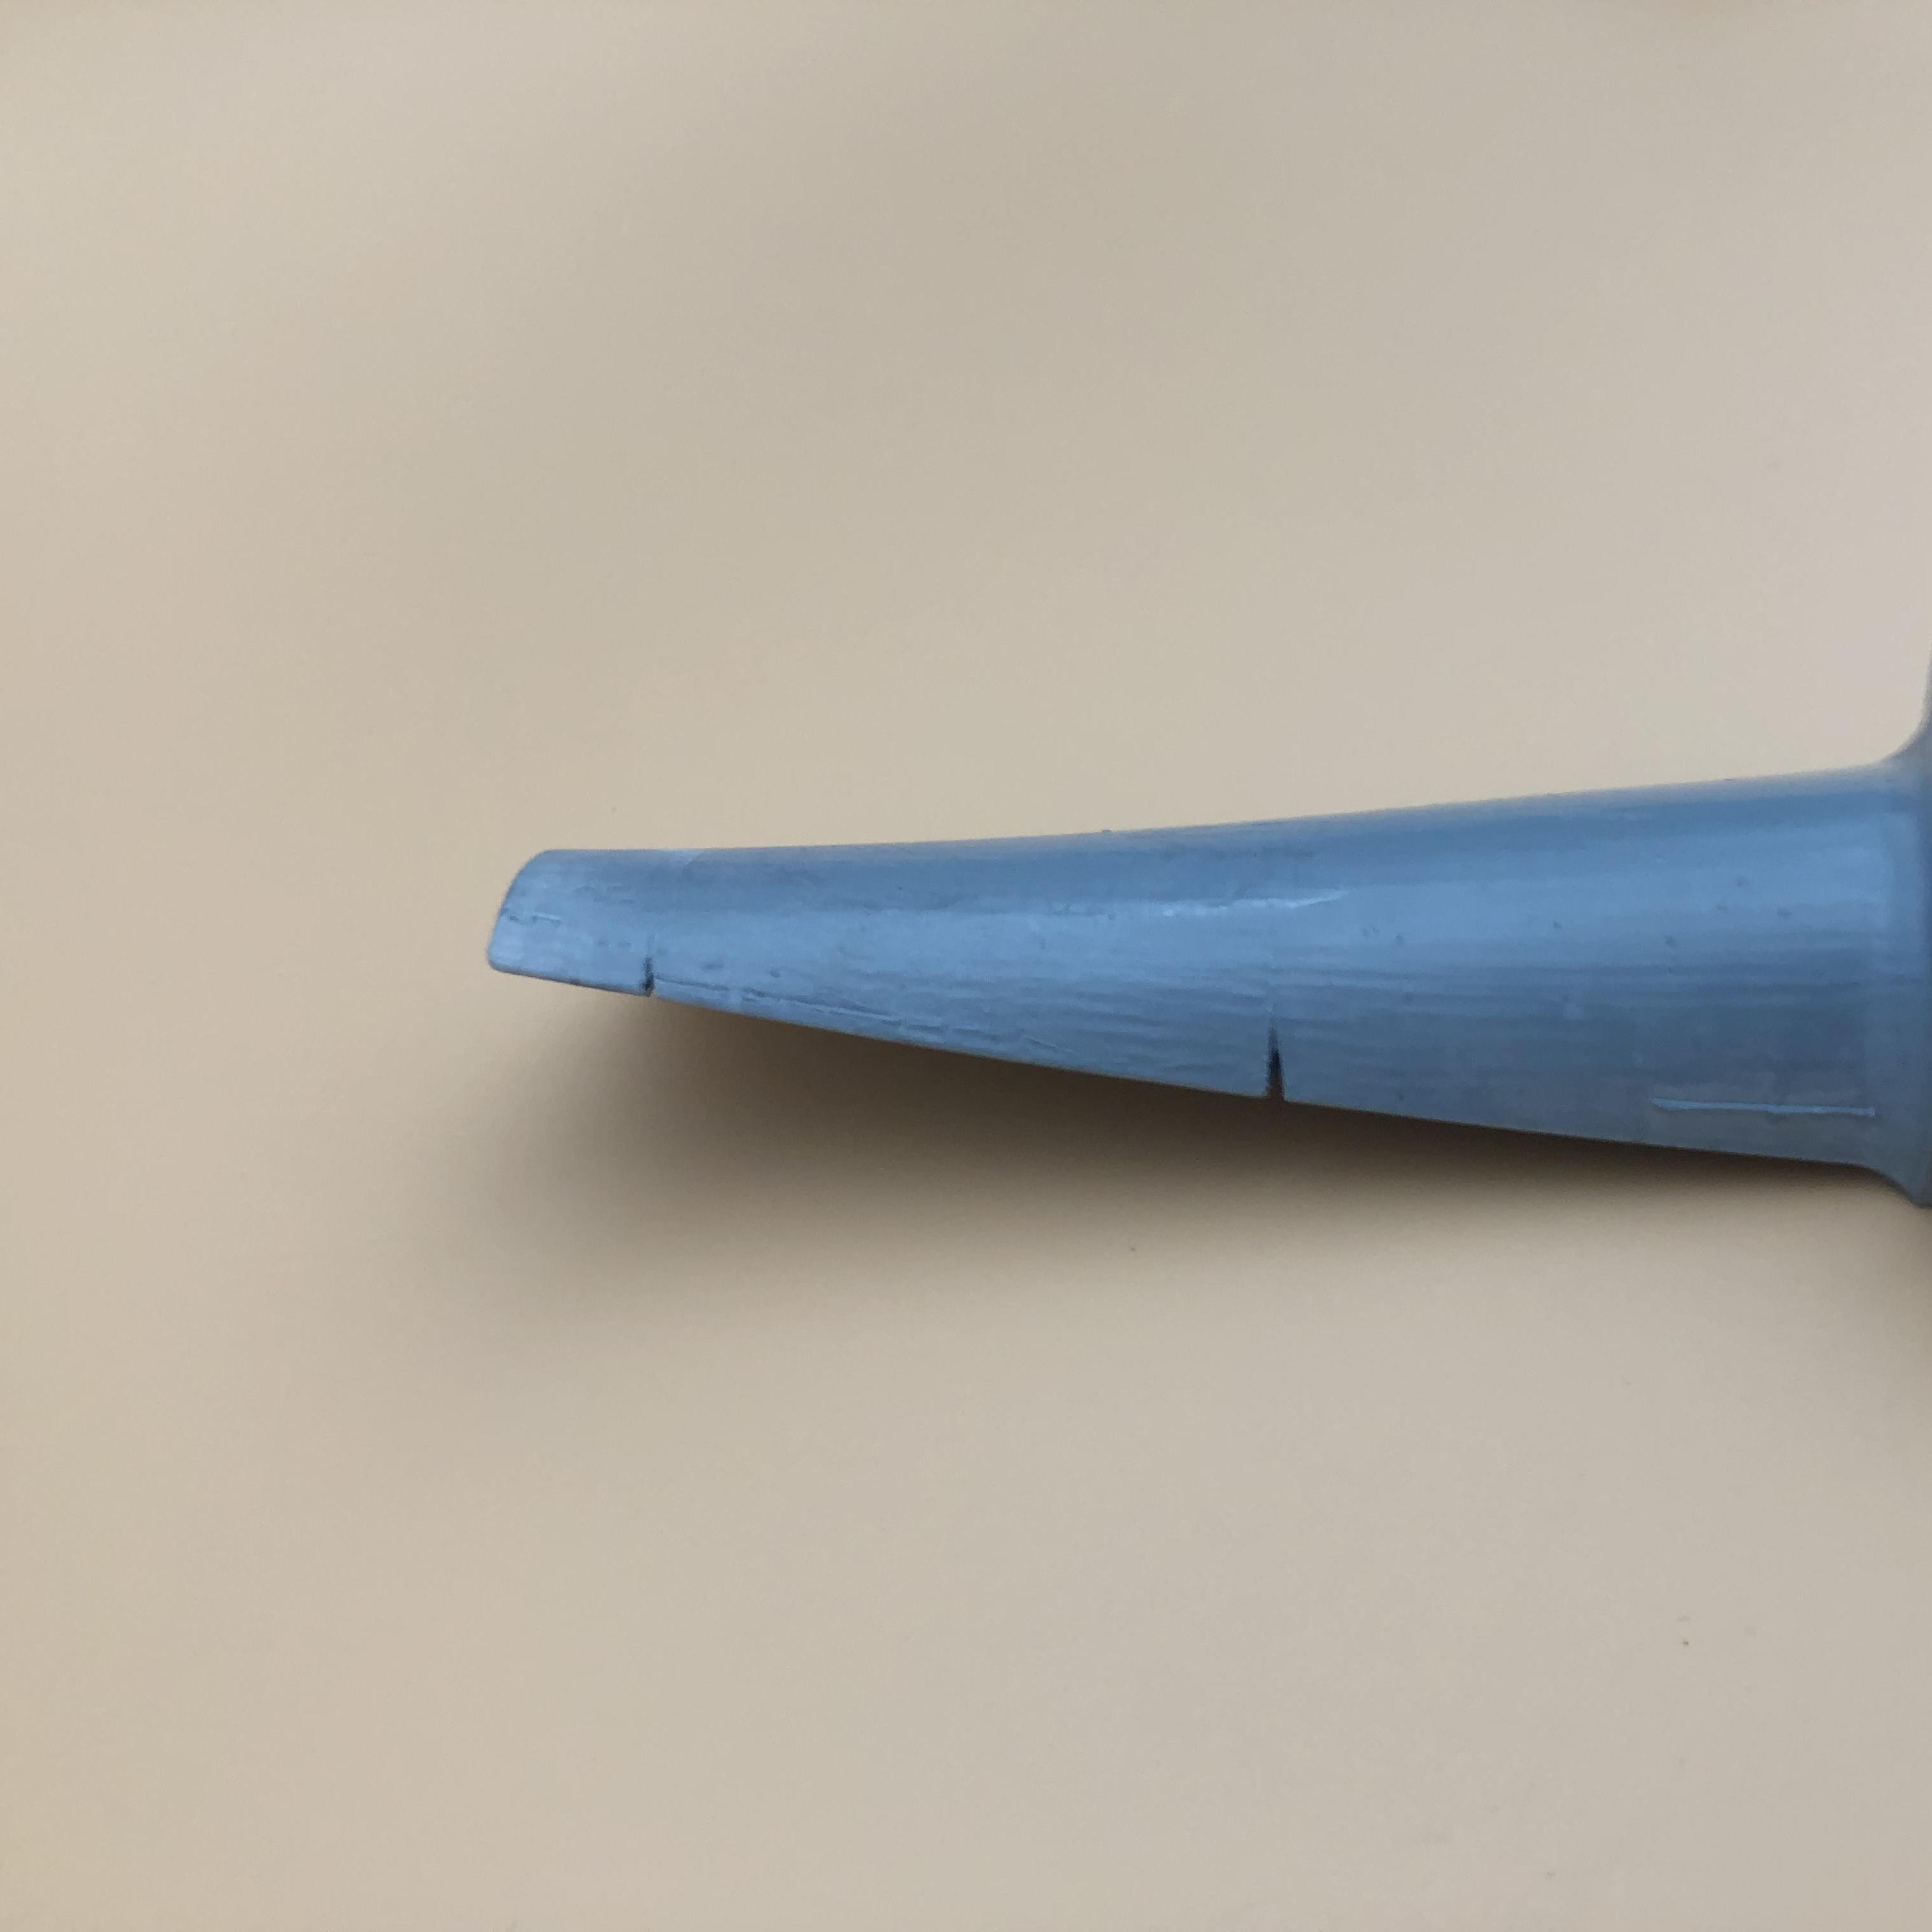groove: (1249, 1019, 1311, 1097), (626, 954, 674, 998)
